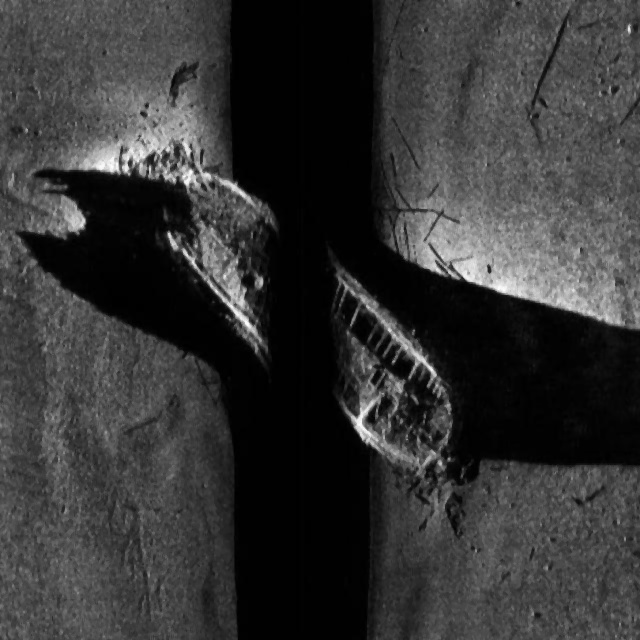Ship: (124, 127, 460, 512)
